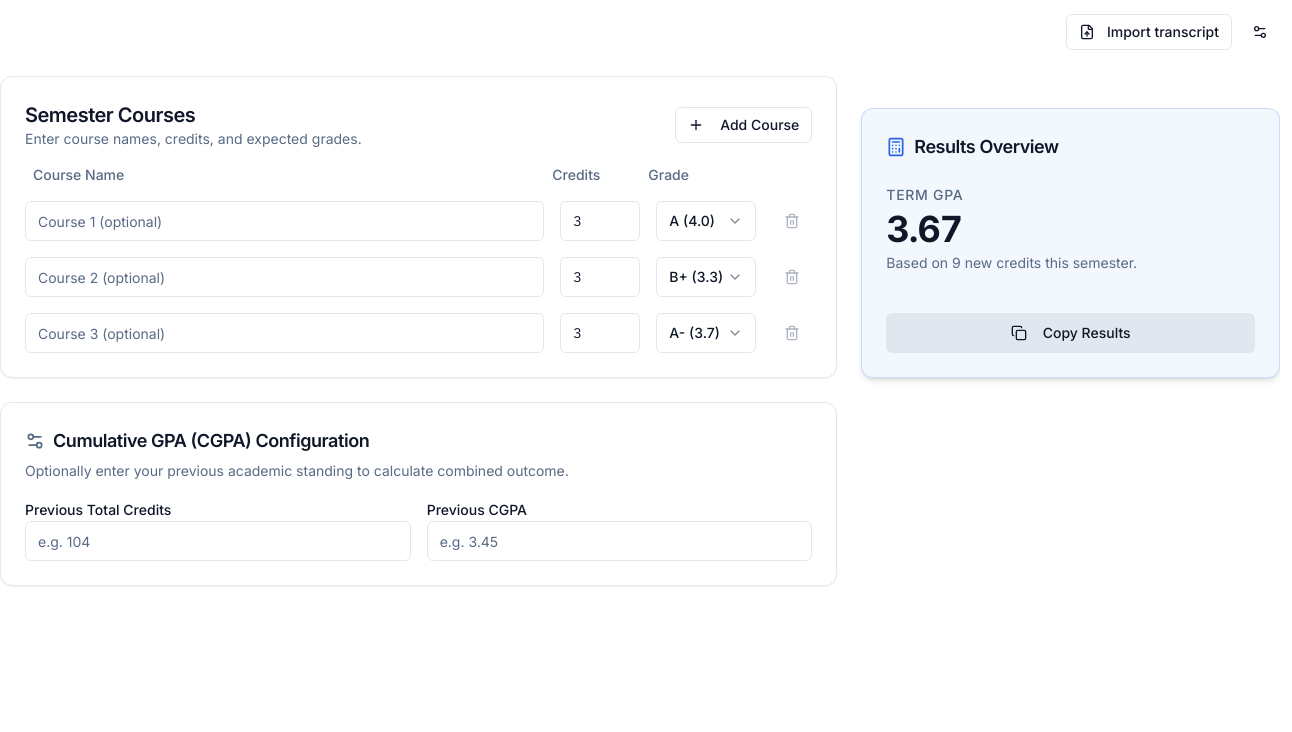
Test: GpaCalculator › renders all 11 grade options when select is opened
Click the dropdown named "Grade": (706, 221) [656, 201, 756, 241]
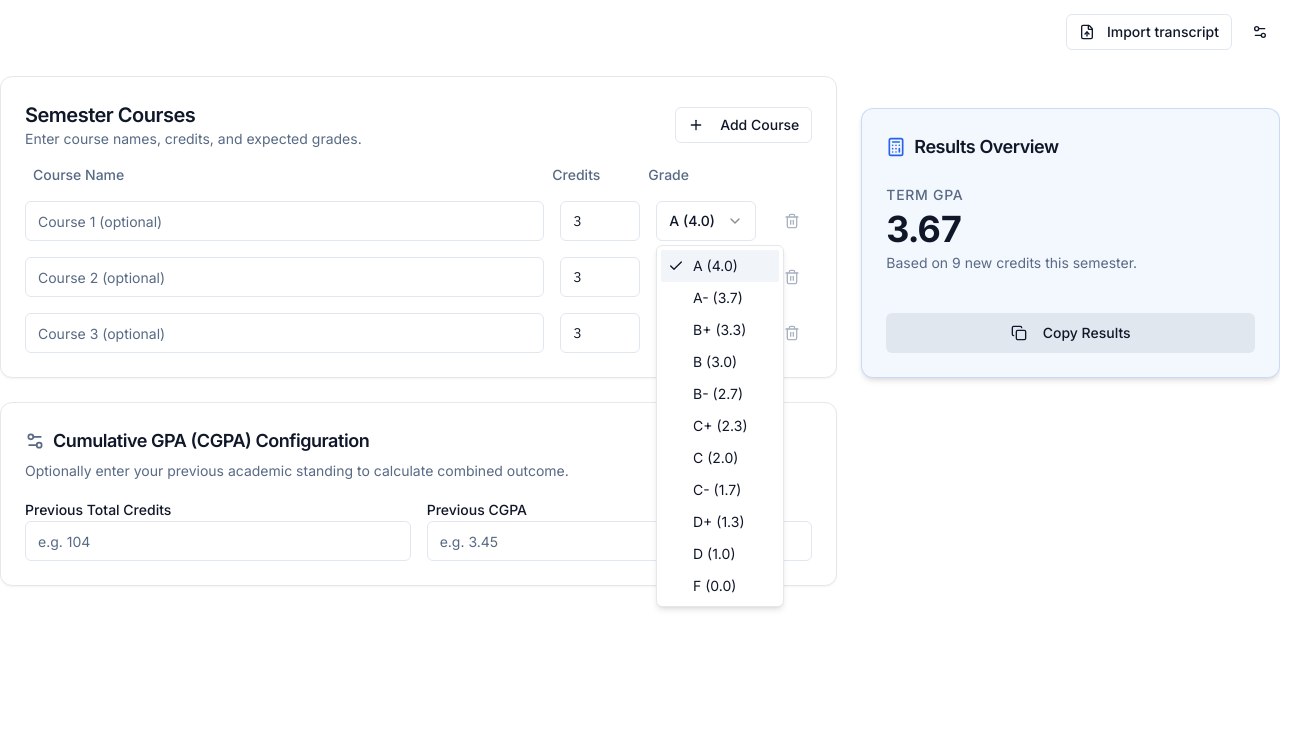
Check: the list is shown, box [656, 245, 784, 607]
Check: the number of options is 11
Check: the option "A (4.0)" is shown, box [661, 250, 779, 282]
